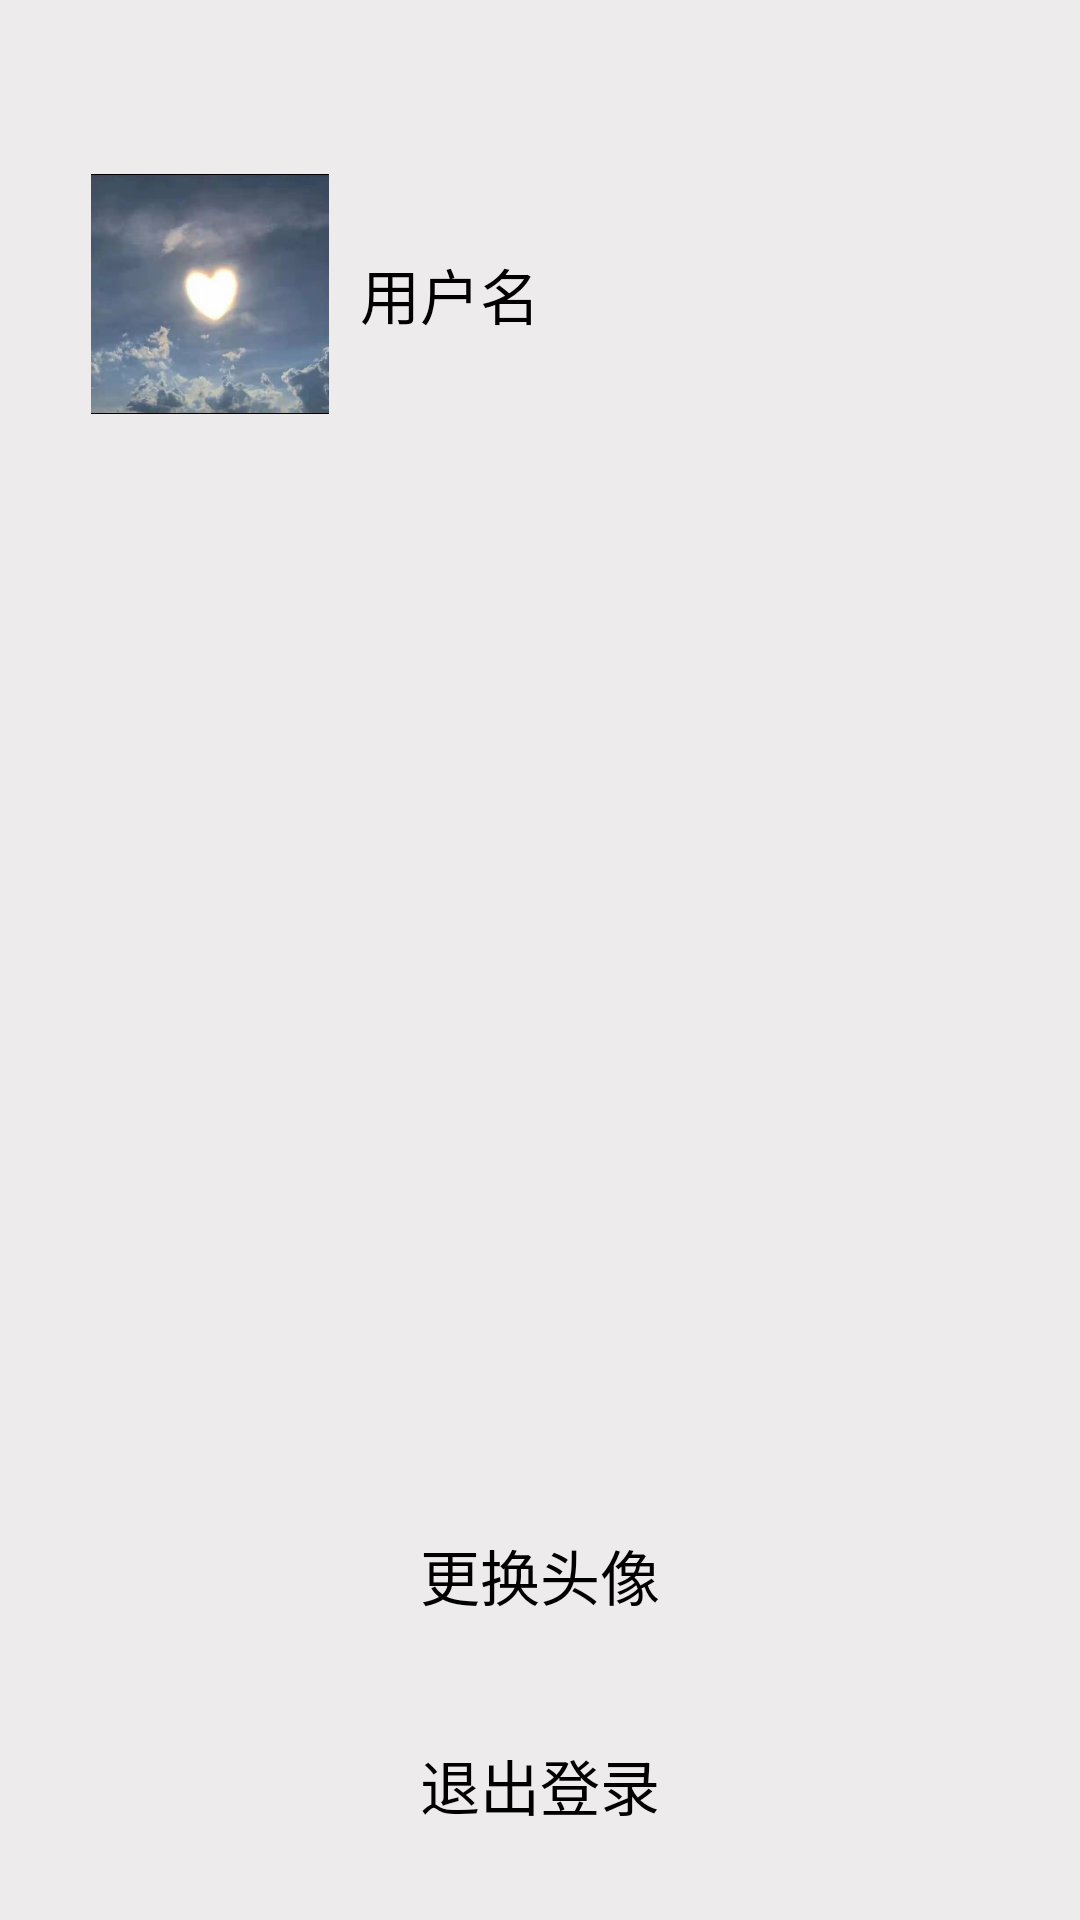

Where icons sit on this 1080x1920 app screen, as bbox(x1, y1, x2, y2):
head: bbox(91, 174, 329, 414)
